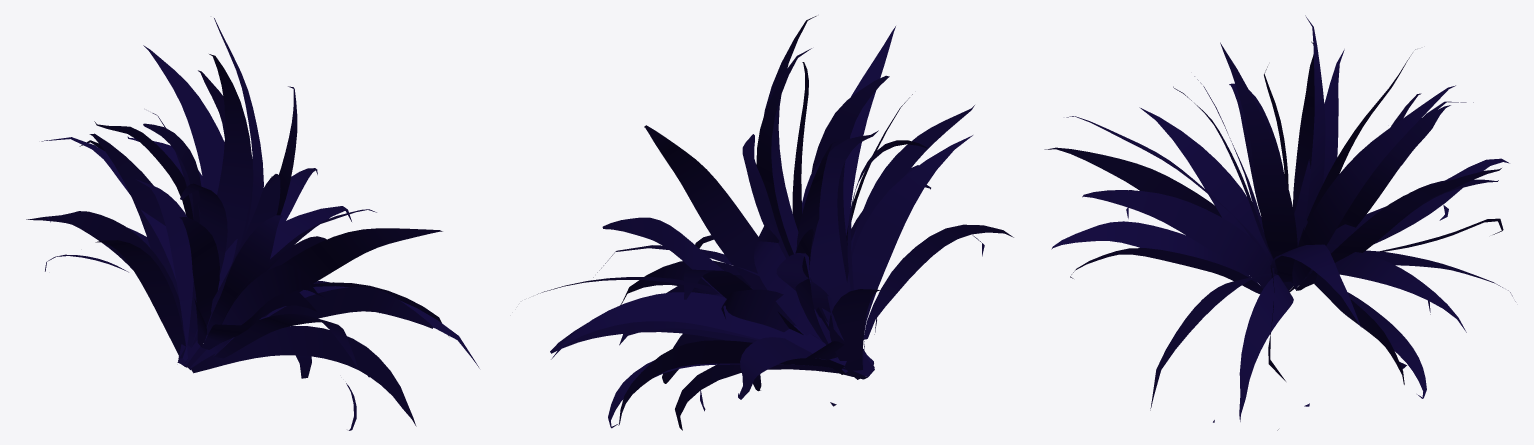
The picture shows the model from 3 angles, left to right: view 1: azimuth 30°, elevation 25°; view 2: azimuth 150°, elevation 25°; view 3: azimuth 270°, elevation 25°; orthographic projection. The views are drawn at different scales.
Parts seen in each view (by area): view 1: brush_Petal_g0_b0; view 2: brush_Petal_g0_b0; view 3: brush_Petal_g0_b0.
Part boxes in pixels (x1=…): brush_Petal_g0_b0: x1=26, y1=18, x2=479, y2=430; brush_Petal_g0_b0: x1=537, y1=16, x2=1013, y2=430; brush_Petal_g0_b0: x1=1044, y1=15, x2=1515, y2=430.
Size of the model in its own units: 4.91 by 5.08 by 6.04.
